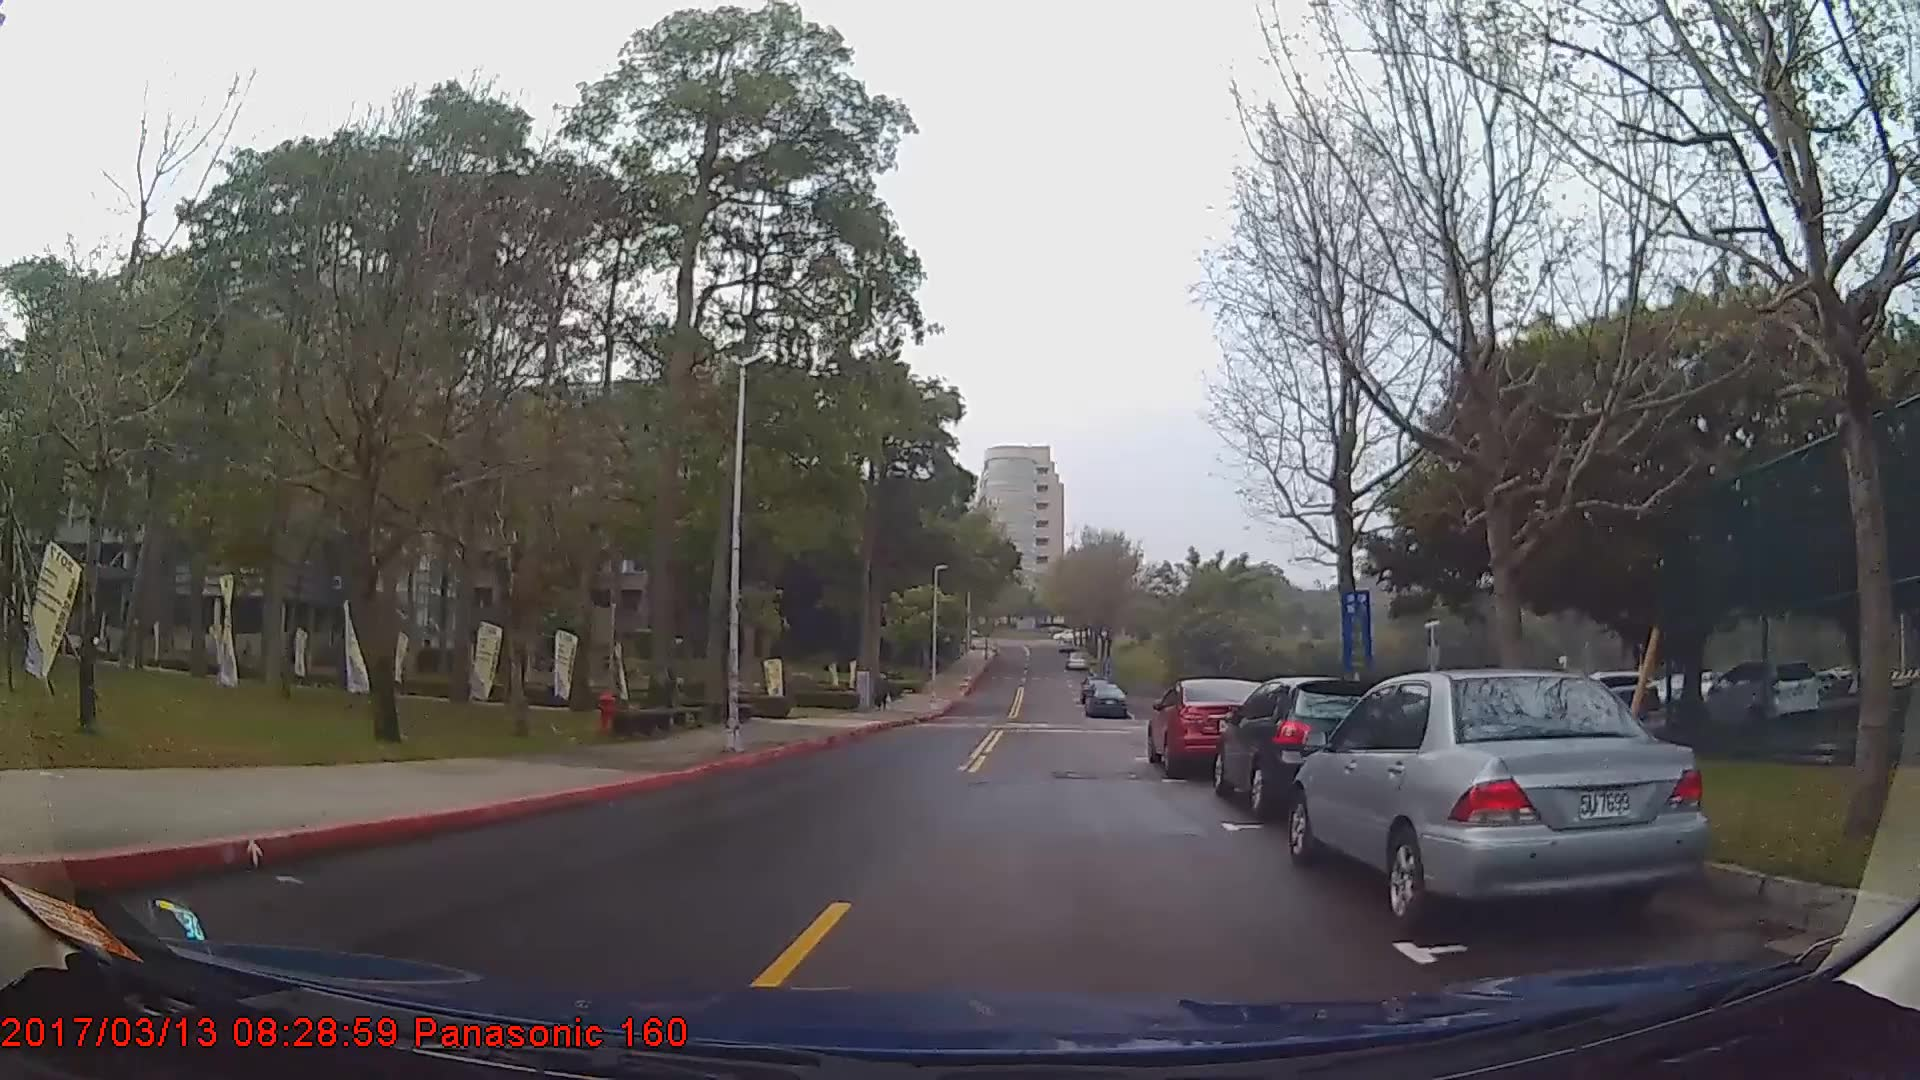vehicle: (1286, 669, 1709, 934), (1211, 676, 1402, 814), (1146, 676, 1276, 783), (1704, 658, 1817, 724), (1084, 682, 1126, 720)
